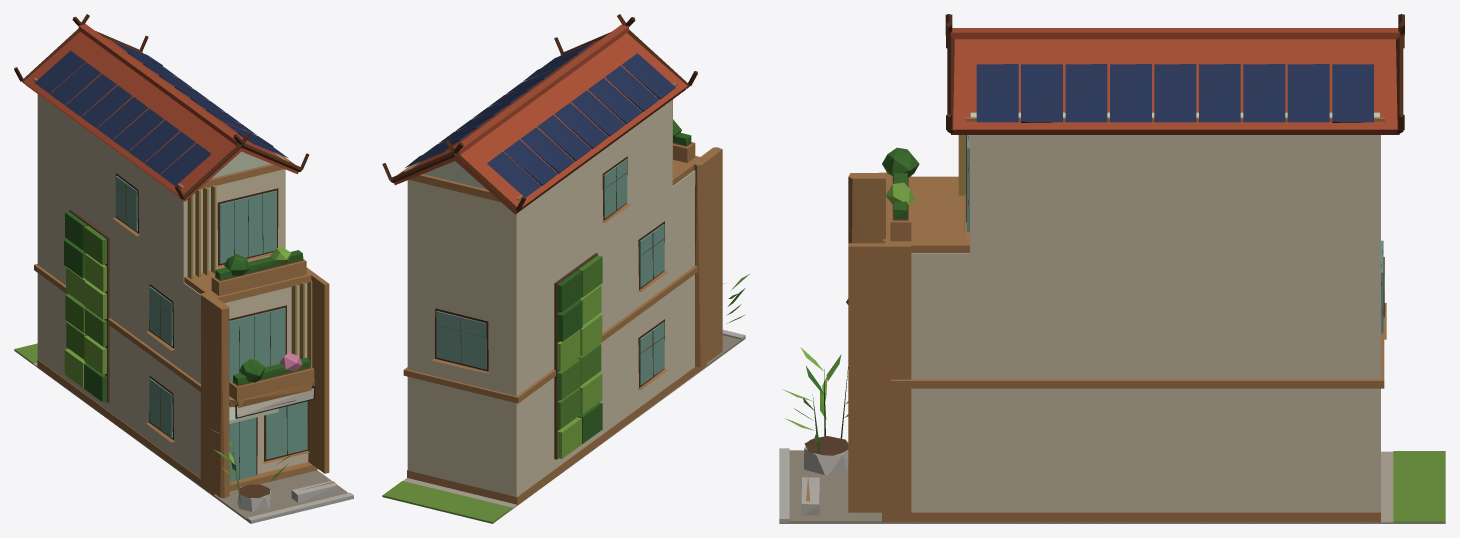
The model's file is bay1_left.glb.
The picture shows the model from 3 angles, left to right: view 1: azimuth 30°, elevation 25°; view 2: azimuth 150°, elevation 25°; view 3: azimuth 270°, elevation 25°; orthographic projection. The views are drawn at different scales.
Parts seen in each view (by area): view 1: body; view 2: body; view 3: body.
Part boxes in pixels (left/top/right/bottom): body: left=14, top=14, right=353, bottom=523; body: left=382, top=14, right=749, bottom=523; body: left=779, top=14, right=1445, bottom=523.
Bounding box in the file's own units: 5.24 × 12.39 × 15.9.
